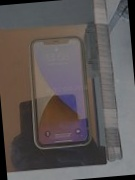iphone: (31, 37, 87, 146)
